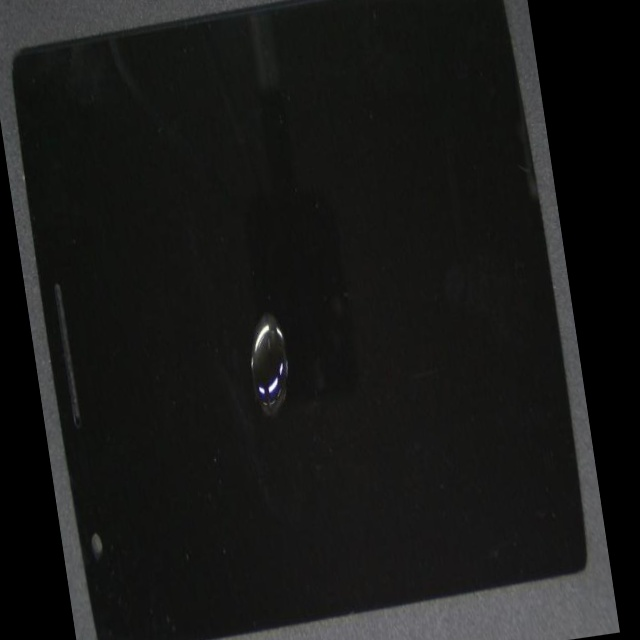oil: (136, 86, 402, 541)
